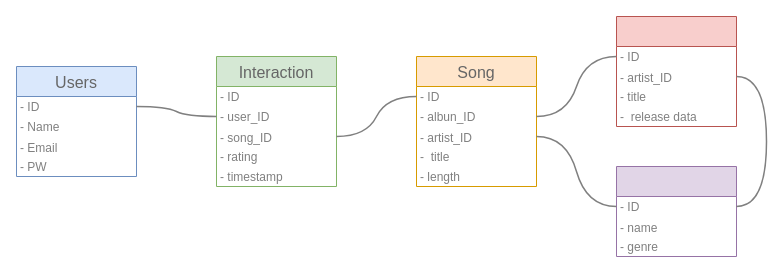
Some shapes in this 783 by 273 pixel diagram are drawn without their labels. Here are the shapes that lost their labels. From the top down, the box of each, then its label:
(616, 16, 736, 126): Album
(616, 166, 736, 256): Artist
